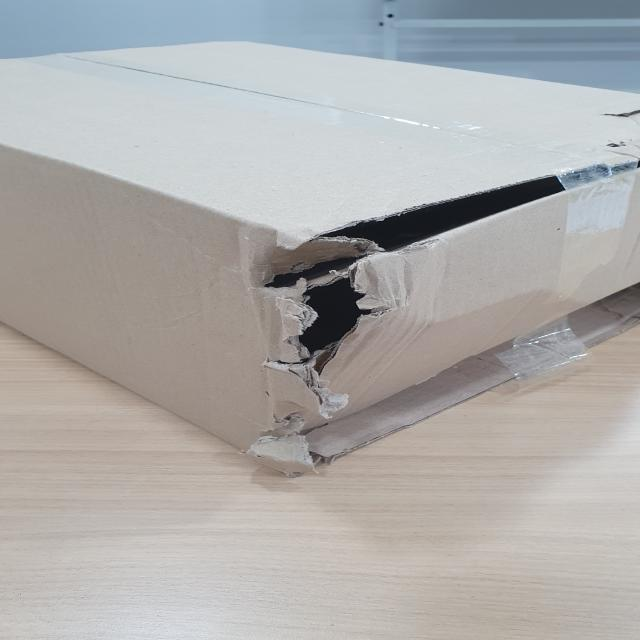hole: (302, 159, 640, 247), (242, 249, 382, 367)
